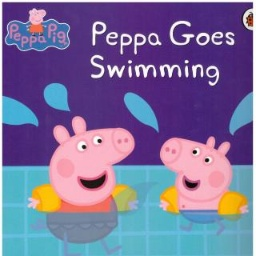Peppa: (28, 114, 139, 212)
